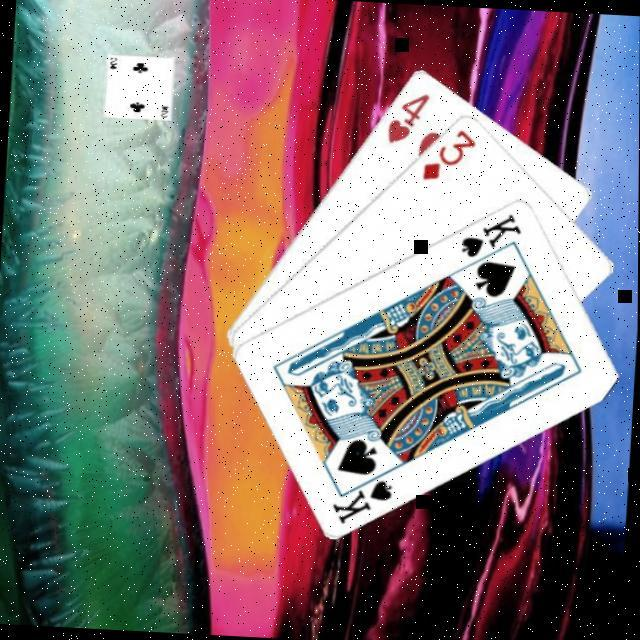3D: (418, 122, 479, 185)
4H: (383, 87, 433, 147)
KS: (328, 461, 397, 528), (455, 207, 524, 263)
